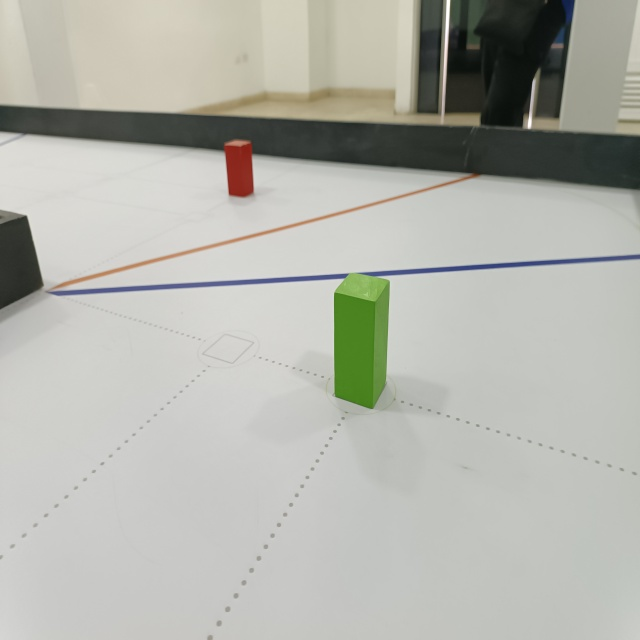blue line: (36, 248, 640, 302)
green rectangular prism: (328, 272, 390, 413)
orange line: (43, 175, 480, 287)
red rectangular prism: (220, 138, 255, 198)
